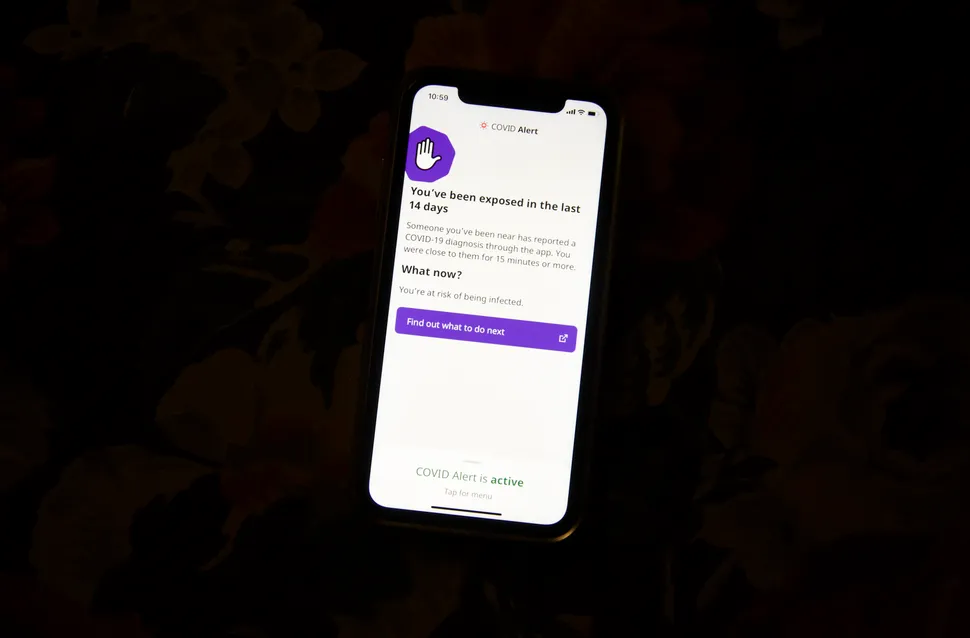Exposed: (395, 117, 603, 229)
